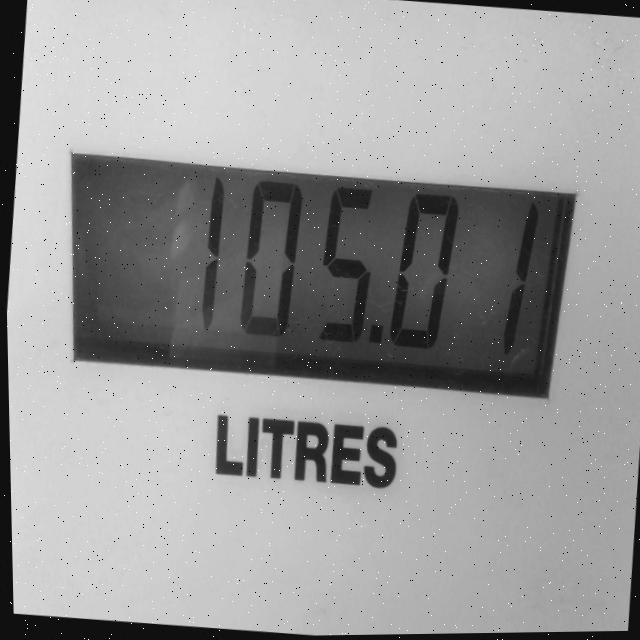.: (366, 322, 383, 352)
0: (227, 179, 313, 349), (383, 191, 461, 363)
1: (491, 201, 546, 364), (188, 174, 234, 322)
5: (313, 182, 377, 354)
